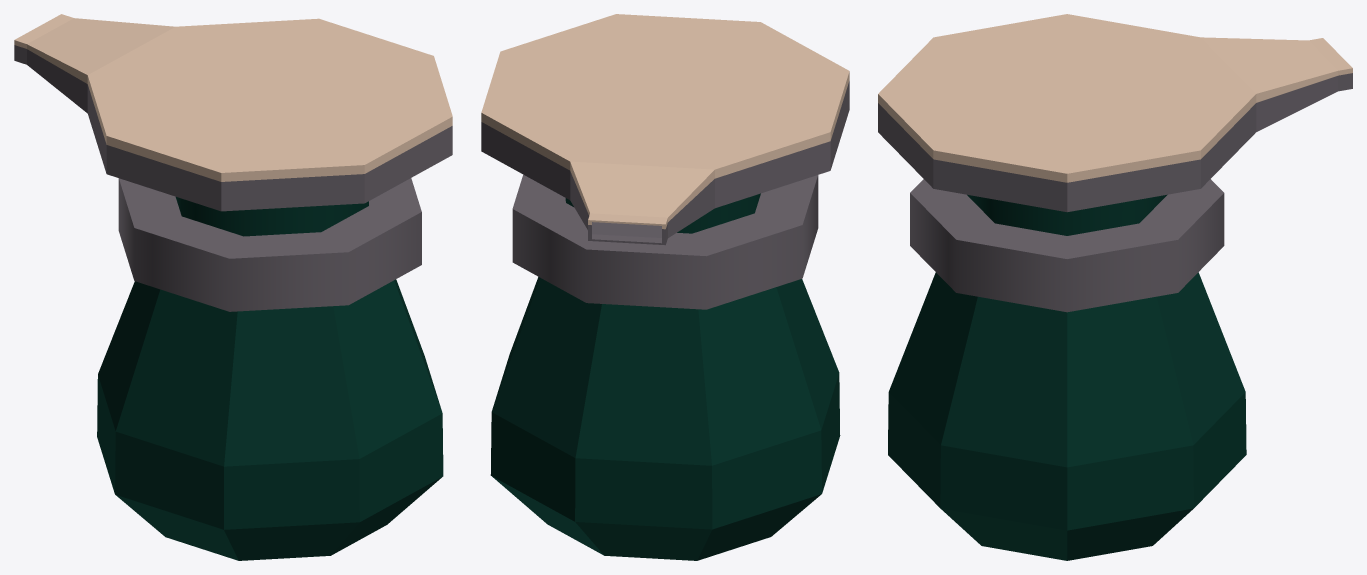
File: SM_oil_bottle.fbx
The picture shows the model from 3 angles, left to right: view 1: azimuth 30°, elevation 25°; view 2: azimuth 150°, elevation 25°; view 3: azimuth 270°, elevation 25°; orthographic projection.
Parts seen in each view (by area): view 1: oil_bottle; view 2: oil_bottle; view 3: oil_bottle.
Part boxes in pixels (bbox=[...]): oil_bottle: bbox=[14, 14, 452, 560]; oil_bottle: bbox=[481, 14, 849, 560]; oil_bottle: bbox=[878, 14, 1352, 560].
Size of the model in its own units: 12.26 by 14.88 by 15.4.
